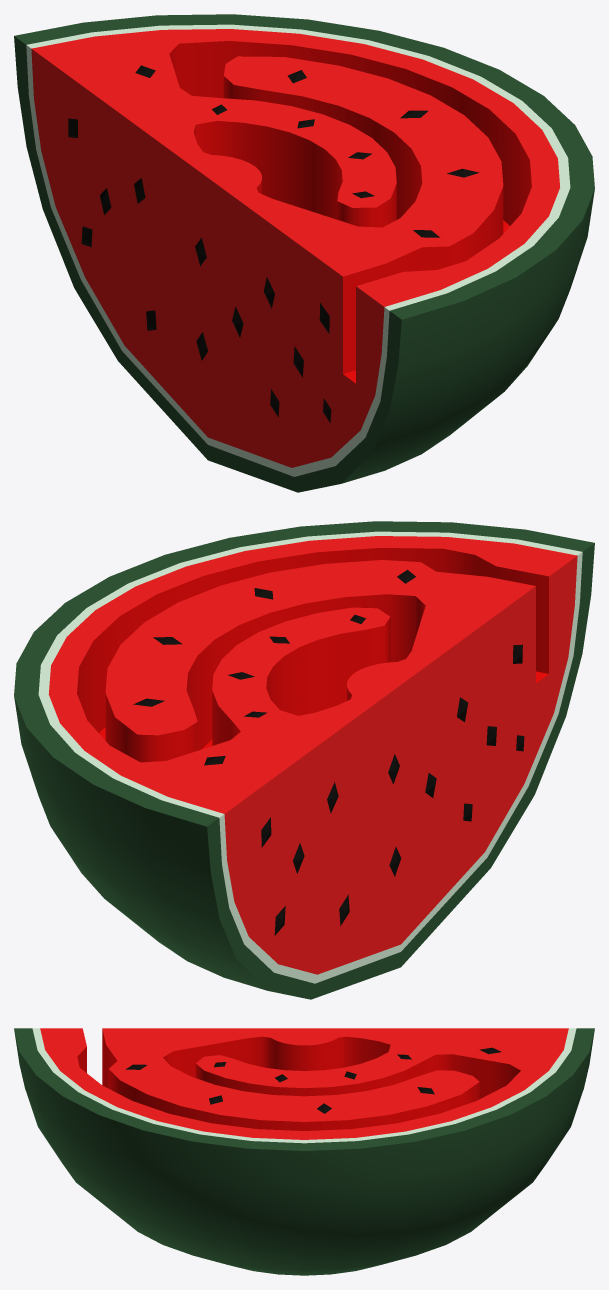
File: watermelon.FBX
The picture shows the model from 3 angles, top to bottom: view 1: azimuth 30°, elevation 25°; view 2: azimuth 150°, elevation 25°; view 3: azimuth 270°, elevation 25°; orthographic projection. The views are drawn at different scales.
Visible parts, largest first — view 1: Object8241, Object8243, Object8244, Object8242, Hedra033, Hedra009; view 2: Object8241, Object8243, Object8244, Object8242, Hedra033, Hedra009; view 3: Object8243, Object8241, Object8244, Object8242, Hedra009.
Boxes of the visible parts, left/top/right/bottom form: Object8241: left=31, top=29, right=560, bottom=467; Object8243: left=14, top=14, right=594, bottom=492; Object8244: left=169, top=41, right=531, bottom=383; Object8242: left=26, top=24, right=570, bottom=476; Hedra033: left=68, top=118, right=331, bottom=422; Hedra009: left=135, top=65, right=479, bottom=237; Object8241: left=48, top=536, right=577, bottom=974; Object8243: left=14, top=521, right=594, bottom=999; Object8244: left=77, top=548, right=548, bottom=762; Object8242: left=38, top=531, right=582, bottom=983; Hedra033: left=261, top=644, right=524, bottom=935; Hedra009: left=133, top=569, right=415, bottom=765; Object8243: left=14, top=1028, right=594, bottom=1275; Object8241: left=40, top=1028, right=568, bottom=1139; Object8244: left=77, top=1029, right=520, bottom=1130; Object8242: left=32, top=1028, right=576, bottom=1143; Hedra009: left=125, top=1047, right=501, bottom=1113.
Size of the model in its own units: 146 by 288 by 117.
